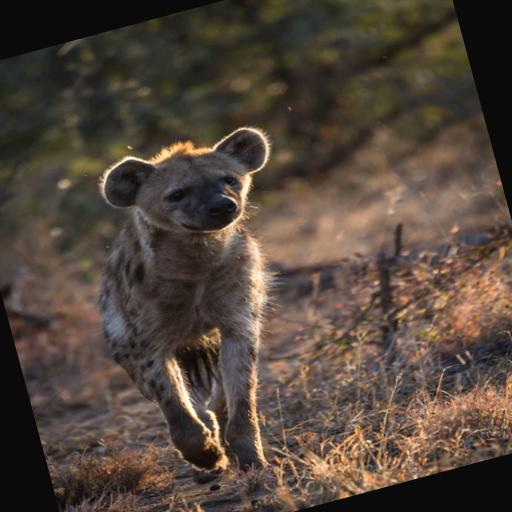hyenas: (26, 56, 359, 512)
